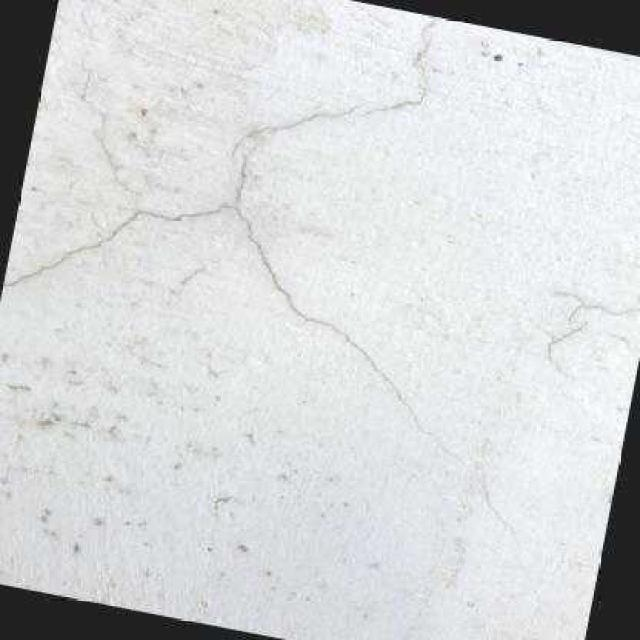D00: (0, 14, 438, 429)
